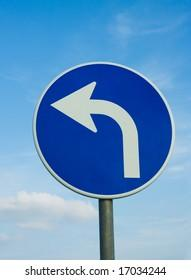Left hand curve: (31, 43, 178, 191)
